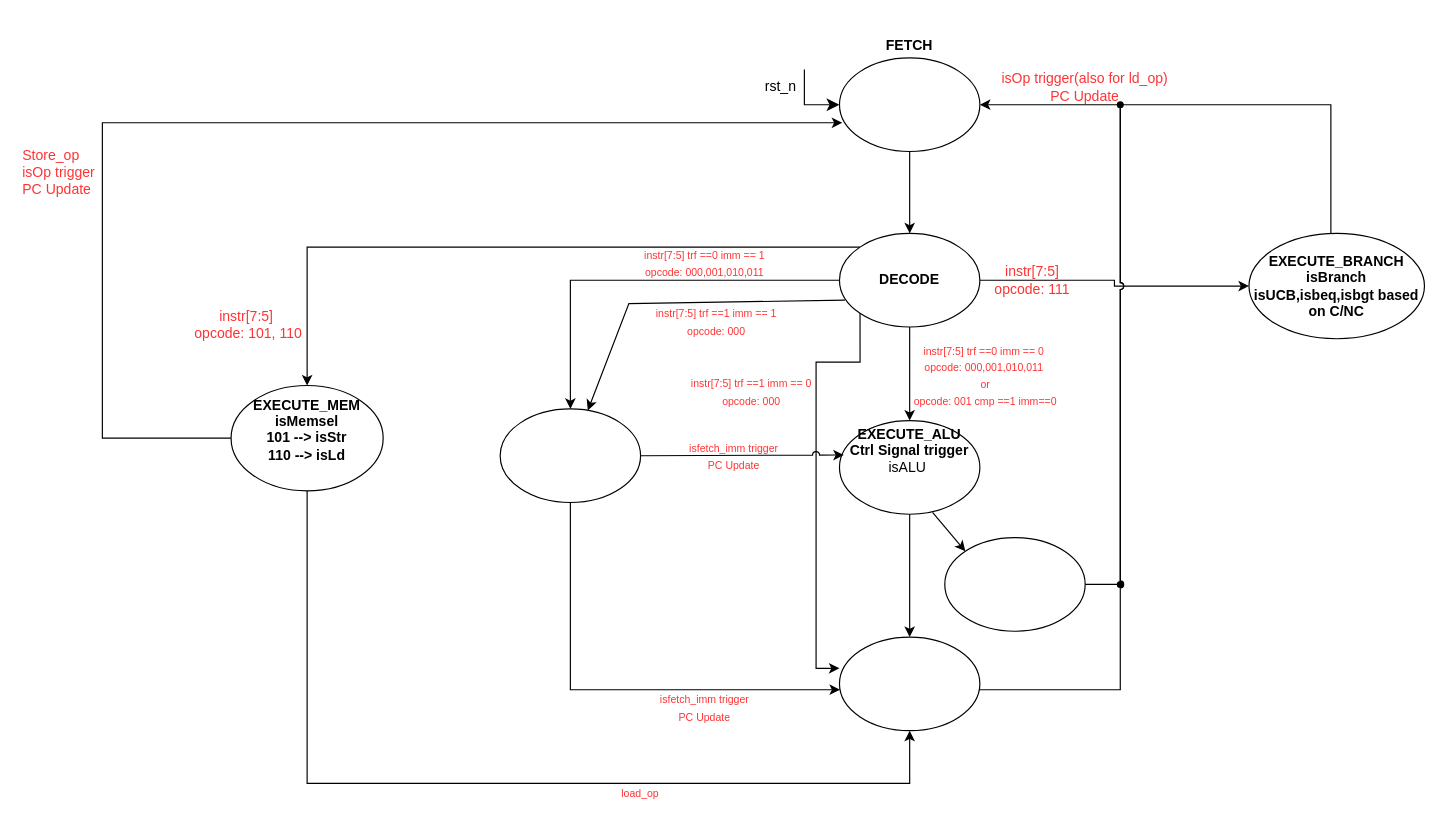
This 1445x838 diagram has some shape labels left out. Here are the shapes that lost their labels. From the top down, the centre of each, then its label:
At [570,455]: "FETCH_IMM".
At [1014,583]: "UPDATE FLAG isCmp".
At [909,683]: "REGWRITE Ctrl Signal trigger isWb".
